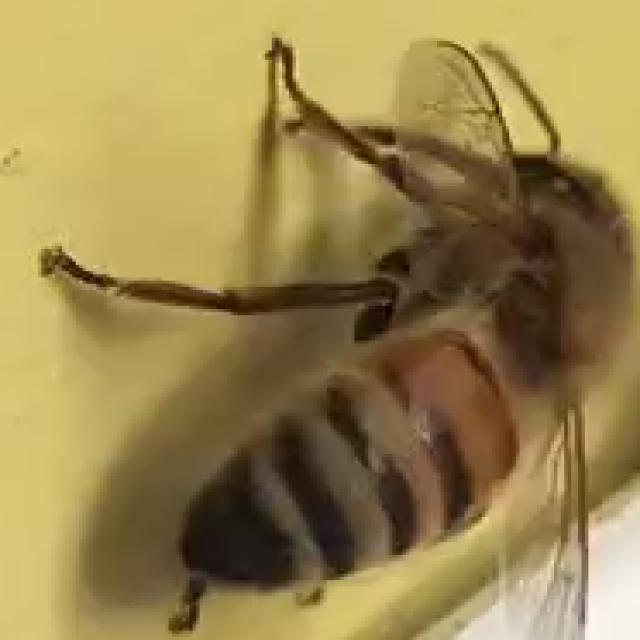honeybee: (26, 50, 624, 629)
